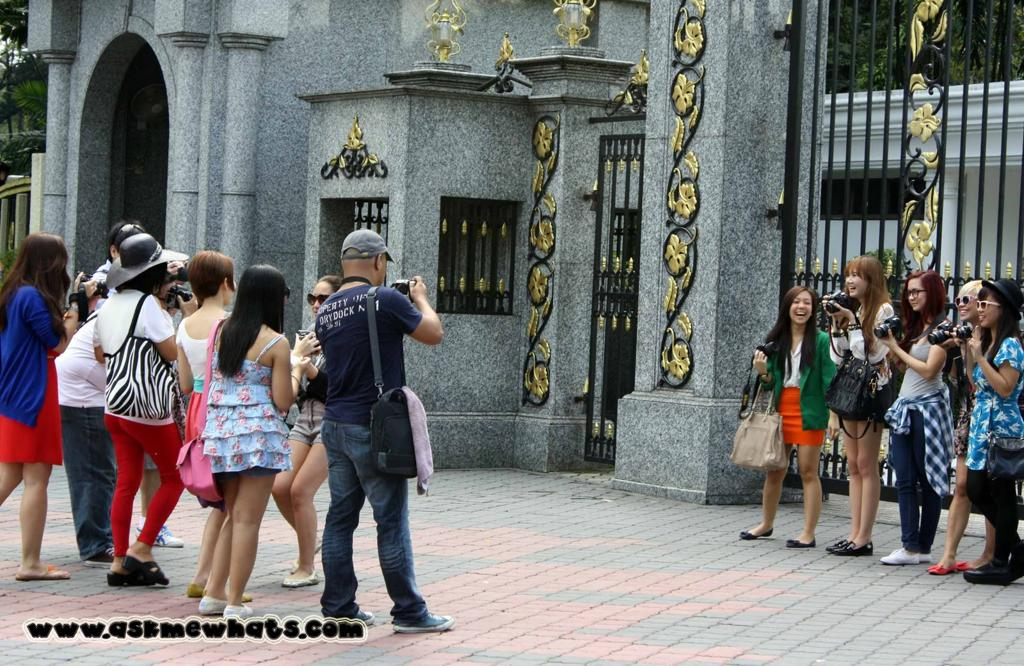face: (311, 283, 337, 321), (977, 292, 999, 326), (845, 265, 867, 297), (789, 292, 811, 323), (220, 267, 236, 304), (907, 278, 926, 309), (958, 288, 977, 319)
